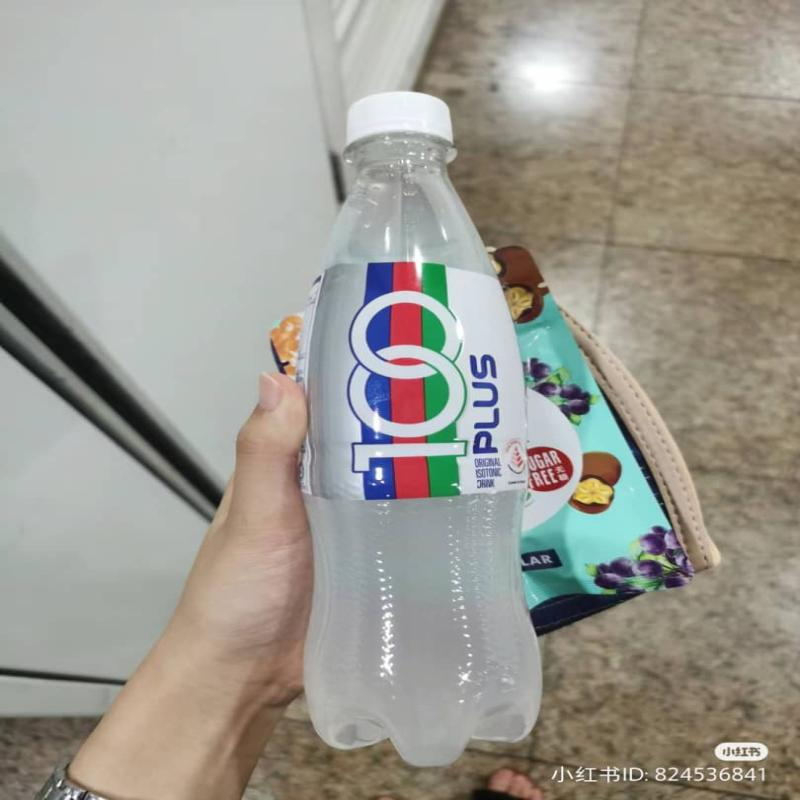botella: (314, 90, 545, 763)
